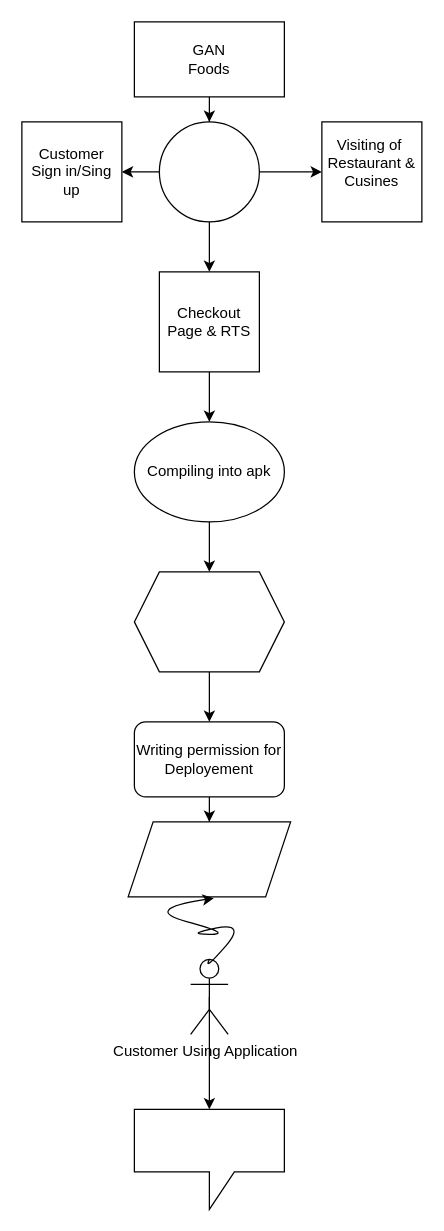
Image size: 444x1231. Some labels were removed from this diagram. The shapes that lost their labels are listed below. From the top down, each one's centre as x and y in pixels, then its label:
[208,171]: Design UIUX
[208,621]: No bugs found
[209,859]: Pushing apk to cloud or app store
[208,1158]: No Feedback Recieved
